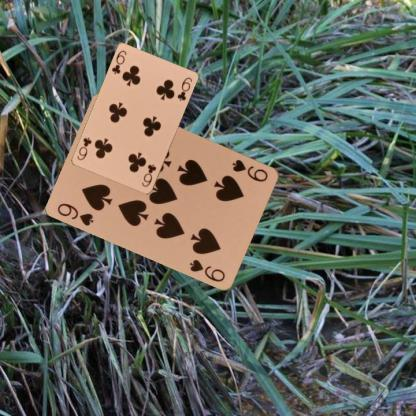6c: (109, 48, 128, 76), (139, 162, 158, 188)
9s: (55, 200, 95, 227), (229, 157, 270, 183)
